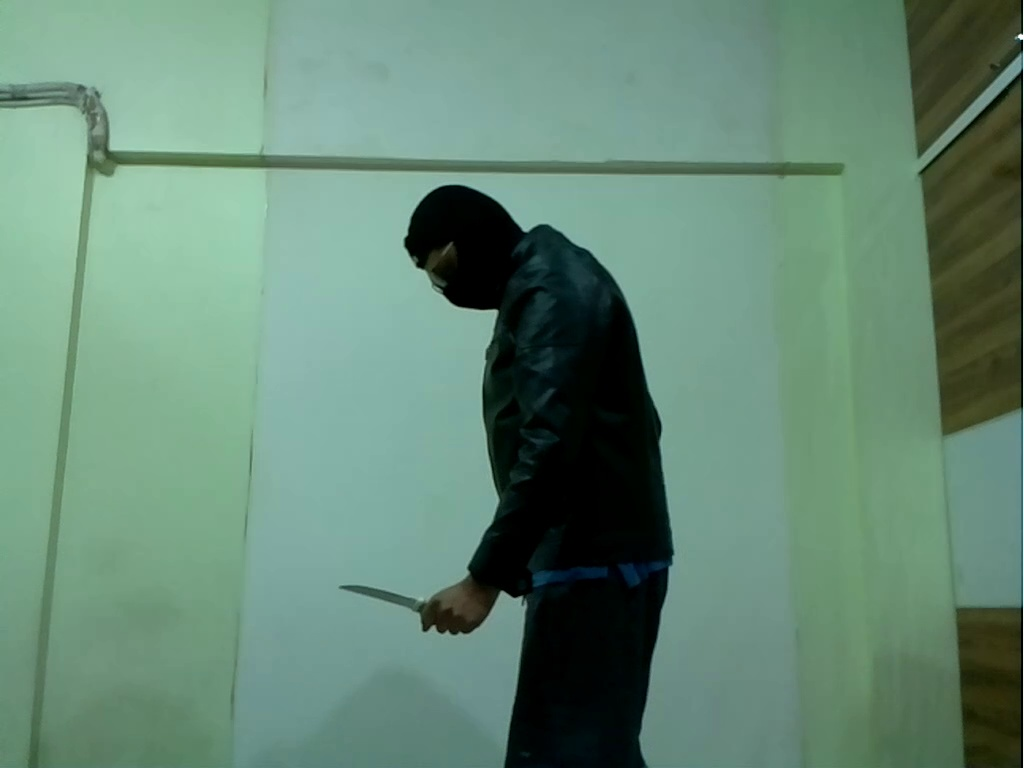knife: (332, 583, 439, 619)
